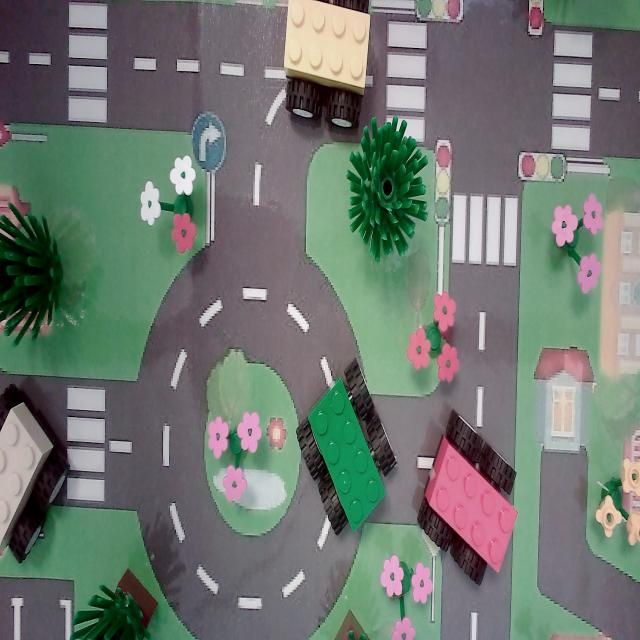Car: (289, 352, 401, 546), (409, 404, 520, 592), (0, 374, 74, 566), (280, 0, 376, 135)
Flower: (545, 178, 609, 308), (134, 151, 204, 264), (581, 438, 640, 558), (203, 408, 265, 514), (401, 294, 463, 386), (376, 555, 434, 640)
Tree: (340, 116, 432, 266), (0, 199, 71, 359), (66, 550, 166, 640)
